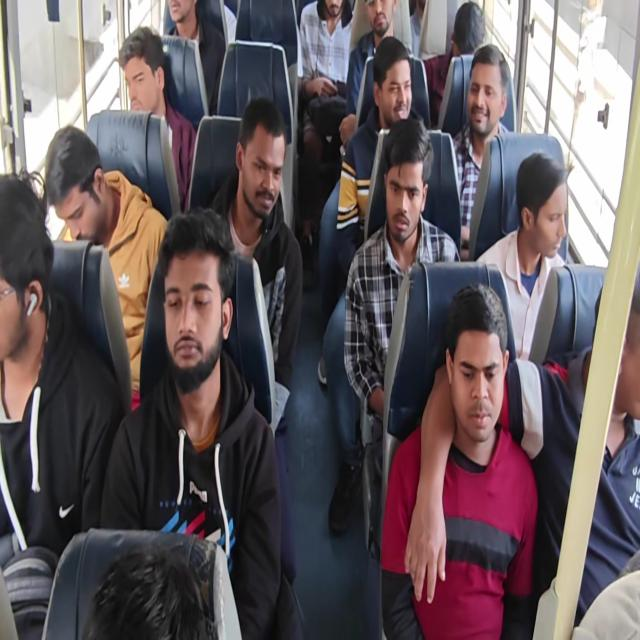person: (1, 1, 638, 638), (98, 206, 302, 638), (407, 264, 639, 634), (0, 168, 123, 638), (380, 281, 539, 638), (342, 116, 461, 528), (317, 36, 424, 385), (44, 124, 169, 411), (210, 96, 303, 432), (475, 151, 570, 364), (118, 26, 196, 212), (296, 0, 354, 248), (451, 43, 512, 255), (81, 546, 216, 639), (342, 0, 413, 146), (423, 0, 488, 127), (163, 0, 226, 115), (571, 568, 639, 639), (408, 0, 426, 58)
